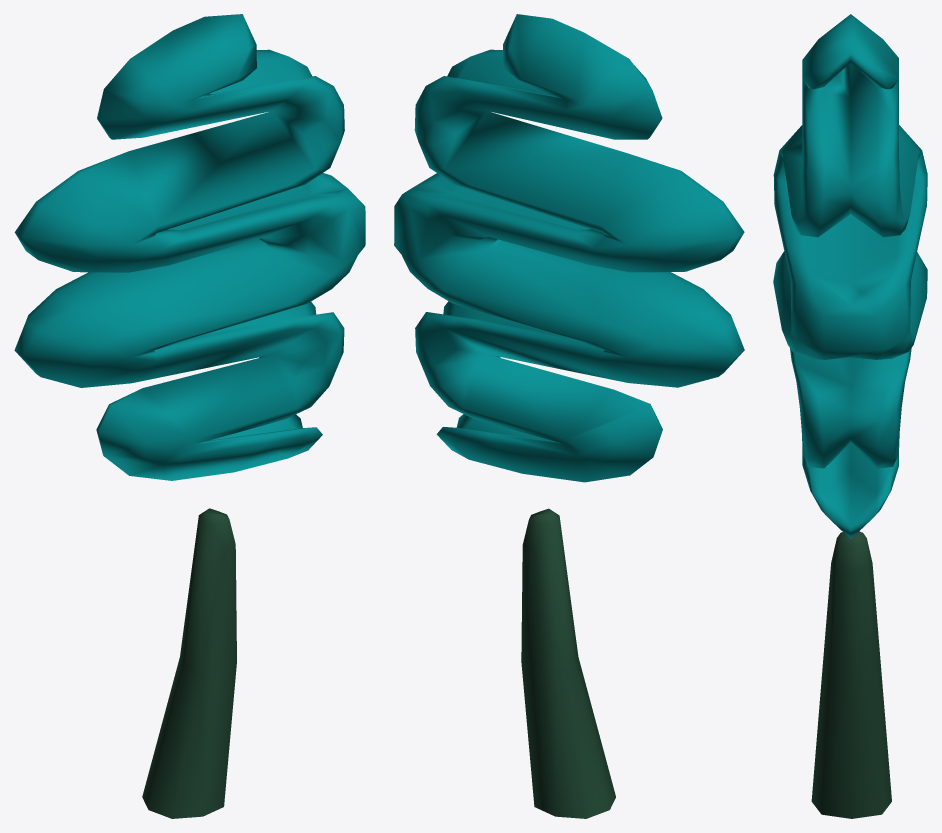
Rendered from tree-floating-1.glb.
3 views of the same model, side by side, from view 1: azimuth 30°, elevation 25°; view 2: azimuth 150°, elevation 25°; view 3: azimuth 270°, elevation 25° (orthographic).
Visible parts, largest first — view 1: Tree_Floating_1; view 2: Tree_Floating_1; view 3: Tree_Floating_1.
Part boxes in pixels (x1=…): Tree_Floating_1: x1=14, y1=14, x2=365, y2=818; Tree_Floating_1: x1=394, y1=14, x2=744, y2=818; Tree_Floating_1: x1=773, y1=14, x2=927, y2=818.
Size of the model in its own units: 2.06 by 4.61 by 0.8227.
